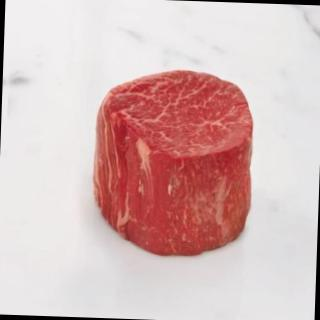Daging Sapi: (93, 67, 258, 261)
